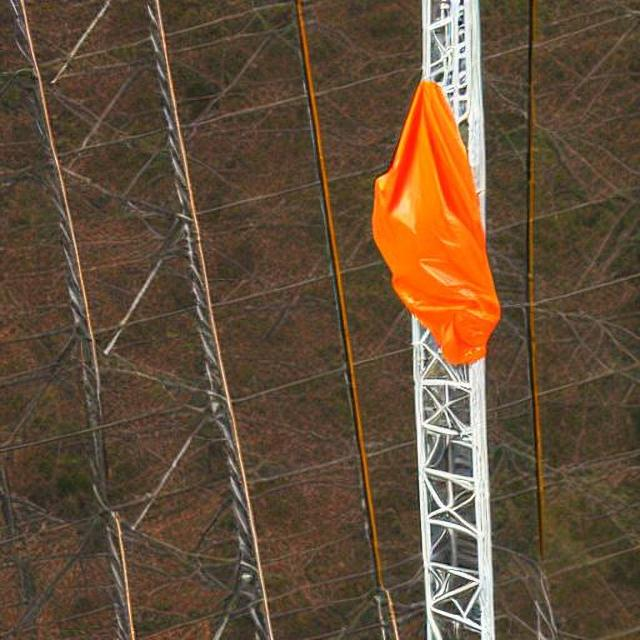floating object: (367, 74, 497, 367)
